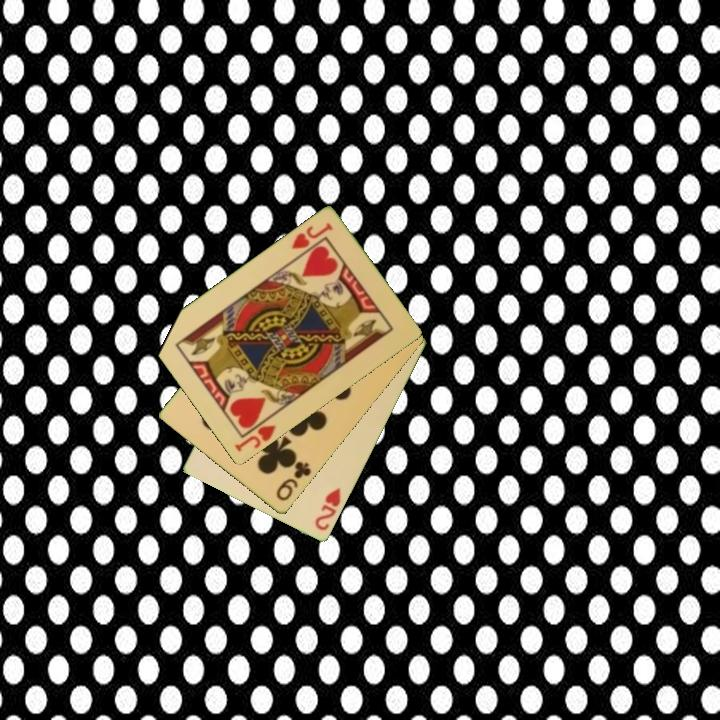2h: (311, 484, 344, 534)
9c: (273, 458, 314, 504)
Jh: (231, 412, 279, 455), (288, 219, 336, 253)
